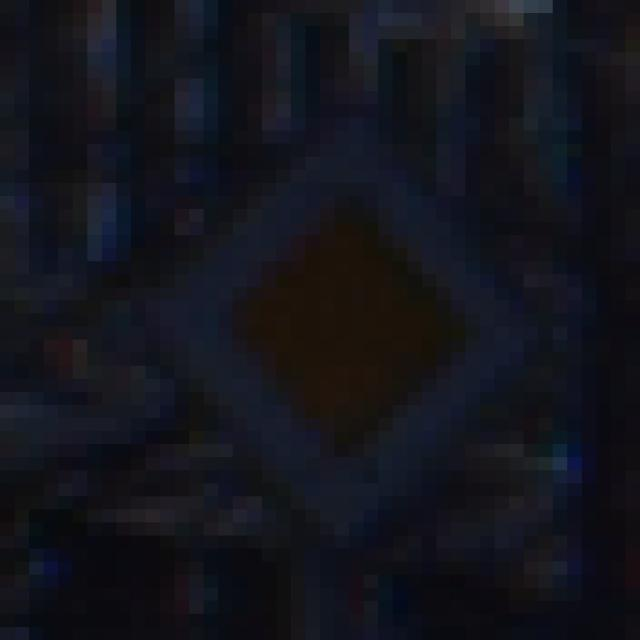Main Road: (89, 66, 569, 576)
